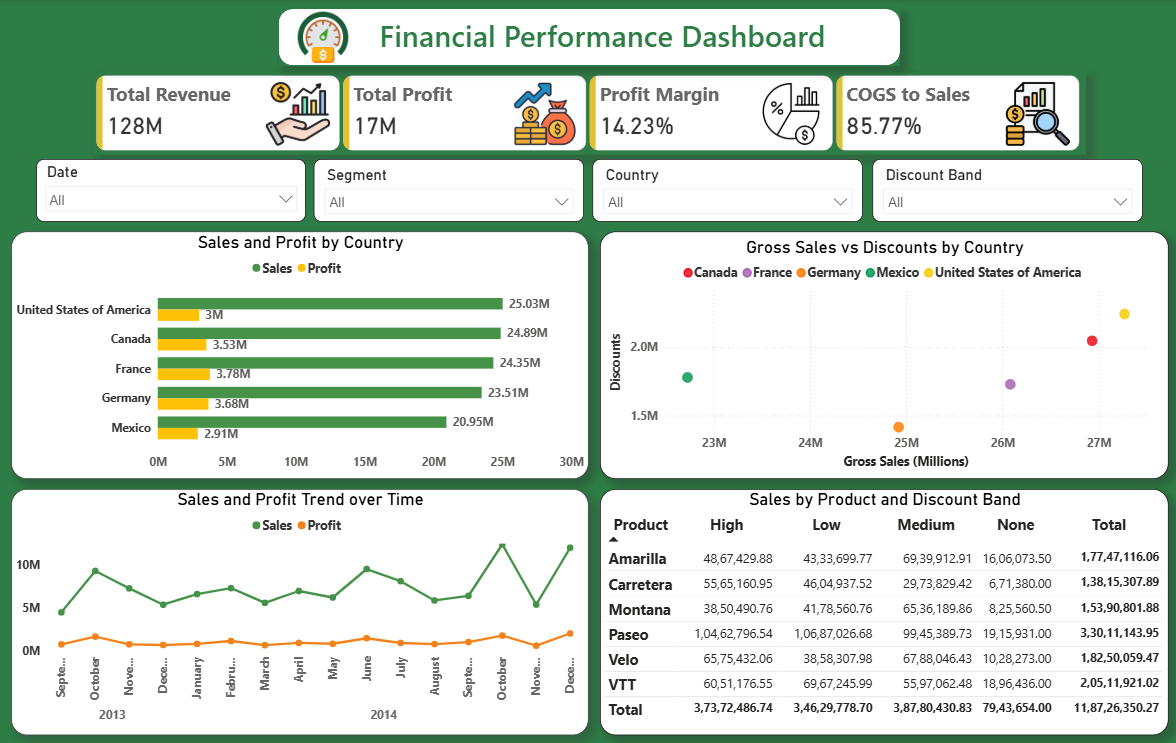

The dashboard page shown, as its layout file describes it:
{"tool":"powerbi","page":{"name":"Page 1","canvas":[1500,950],"ordinal":0},"visuals":[{"type":"cardVisual","fields":{"Data":["Financial_data.Total Revenue","Financial_data.Total Profit","Financial_data.Profit Margin","Financial_data.COGS to Sales"]},"box":[117.2,92.3,1265.5,106.7],"z":0},{"type":"group","id":"g1","title":"Group 1","box":[354.4,12.7,791.1,71.6],"z":1000},{"type":"shape","box":[354.4,12.7,791.1,71.6],"z":1000,"group":"g1"},{"type":"textbox","box":[419.3,16.3,694.1,65.6],"z":2000,"group":"g1"},{"type":"clusteredBarChart","title":"Sales and Profit by Country","fields":{"Category":["Financial_data.Country"],"Y":["Sum(Financial_data.Sales)","Sum(Financial_data. Profit )"]},"box":[14.3,296.1,735.4,315.2],"z":2000},{"type":"image","box":[354.4,12.7,112.8,71.6],"z":3000,"group":"g1"},{"type":"lineChart","title":"Sales and Profit Trend over Time","fields":{"Category":["Financial_data.Year","Financial_data. Month Name "],"Y":["Sum(Financial_data.Sales)","Sum(Financial_data. Profit )"]},"box":[14,624,735.4,313.6],"z":3000},{"type":"scatterChart","title":"Gross Sales vs Discounts  by Country","fields":{"X":["Sum(Financial_data.Gross Sales)"],"Y":["Sum(Financial_data. Discounts )"],"Series":["Financial_data.Country"]},"box":[764.1,296.1,724.3,315.2],"z":4000},{"type":"pivotTable","title":"Sales by Product and Discount Band","fields":{"Rows":["Financial_data. Product "],"Columns":["Financial_data. Discount Band "],"Values":["Sum(Financial_data.Sales)"]},"box":[764.1,624,724.3,313.6],"z":5000},{"type":"slicer","fields":{"Values":["Financial_data.Date"]},"box":[45.6,203.8,343,80],"z":6000},{"type":"slicer","fields":{"Values":["Financial_data.Segment"]},"box":[400,203.8,343.8,80],"z":7000},{"type":"slicer","fields":{"Values":["Financial_data.Country"]},"box":[755.3,203.8,343.8,80],"z":8000},{"type":"slicer","fields":{"Values":["Financial_data. Discount Band "]},"box":[1110.5,203.8,343.8,80],"z":9000}]}

Visuals, with their boxes in screenshot pixels (x1, y1, x2, y2), scaled from the page's 1500x950 canvas onto the 1176x743 screenshot:
cardVisual - Financial_data.Total Revenue x Financial_data.Total Profit: BBox(92, 72, 1084, 156)
"Group 1" group: BBox(278, 10, 898, 66)
shape: BBox(278, 10, 898, 66)
textbox: BBox(329, 13, 873, 64)
"Sales and Profit by Country" clusteredBarChart: BBox(11, 232, 588, 478)
image: BBox(278, 10, 366, 66)
"Sales and Profit Trend over Time" lineChart: BBox(11, 488, 588, 733)
"Gross Sales vs Discounts  by Country" scatterChart: BBox(599, 232, 1167, 478)
"Sales by Product and Discount Band" pivotTable: BBox(599, 488, 1167, 733)
slicer - Financial_data.Date: BBox(36, 159, 305, 222)
slicer - Financial_data.Segment: BBox(314, 159, 583, 222)
slicer - Financial_data.Country: BBox(592, 159, 862, 222)
slicer - Financial_data. Discount Band : BBox(871, 159, 1140, 222)
